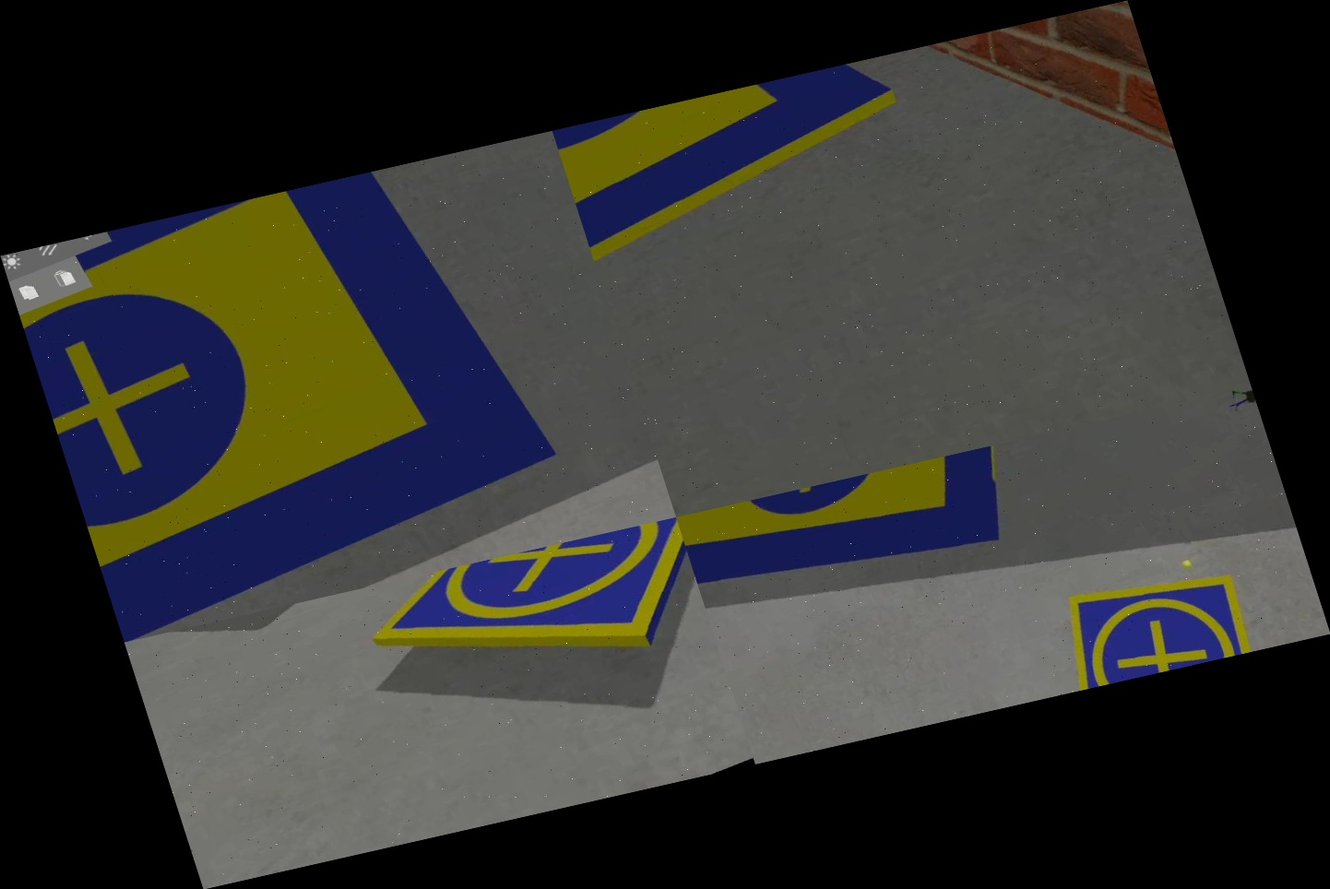large_base: (0, 150, 589, 642), (552, 52, 958, 311), (676, 430, 1107, 663)
small_base: (345, 516, 723, 740), (999, 526, 1289, 700)
